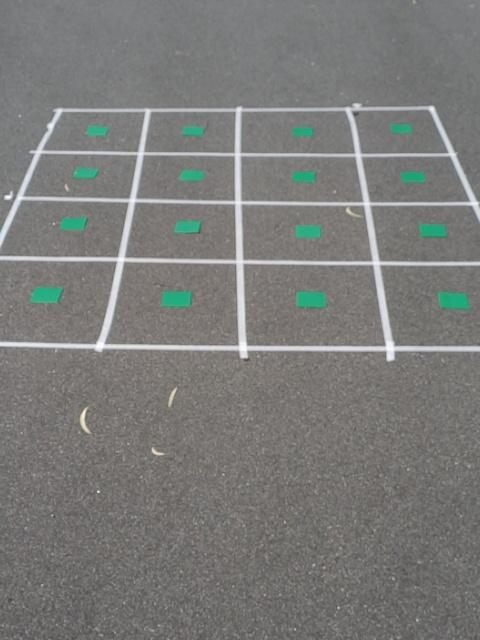weed: (290, 289, 331, 311), (437, 288, 470, 312), (159, 288, 192, 310), (29, 286, 63, 304), (59, 214, 89, 234), (419, 221, 449, 241), (294, 222, 322, 242), (173, 216, 200, 236), (179, 166, 206, 184), (400, 169, 426, 187), (290, 123, 313, 140), (86, 122, 110, 138), (71, 166, 100, 179), (179, 124, 204, 139), (291, 169, 316, 184), (388, 121, 412, 136)
